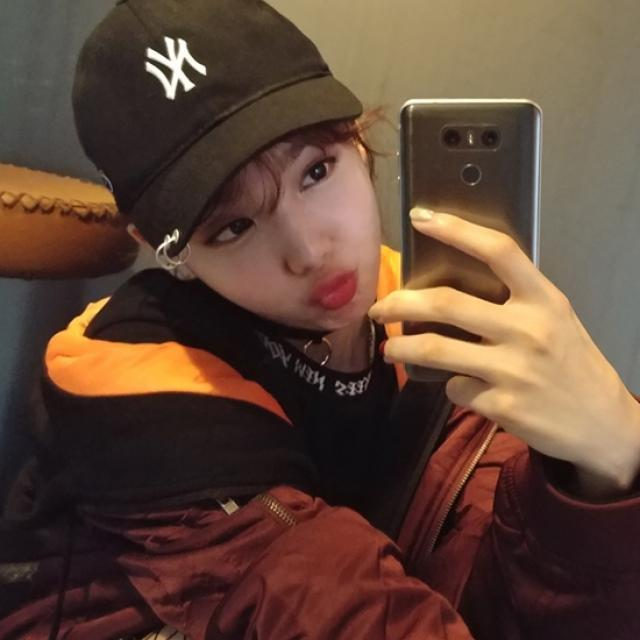phone: (400, 98, 543, 382)
